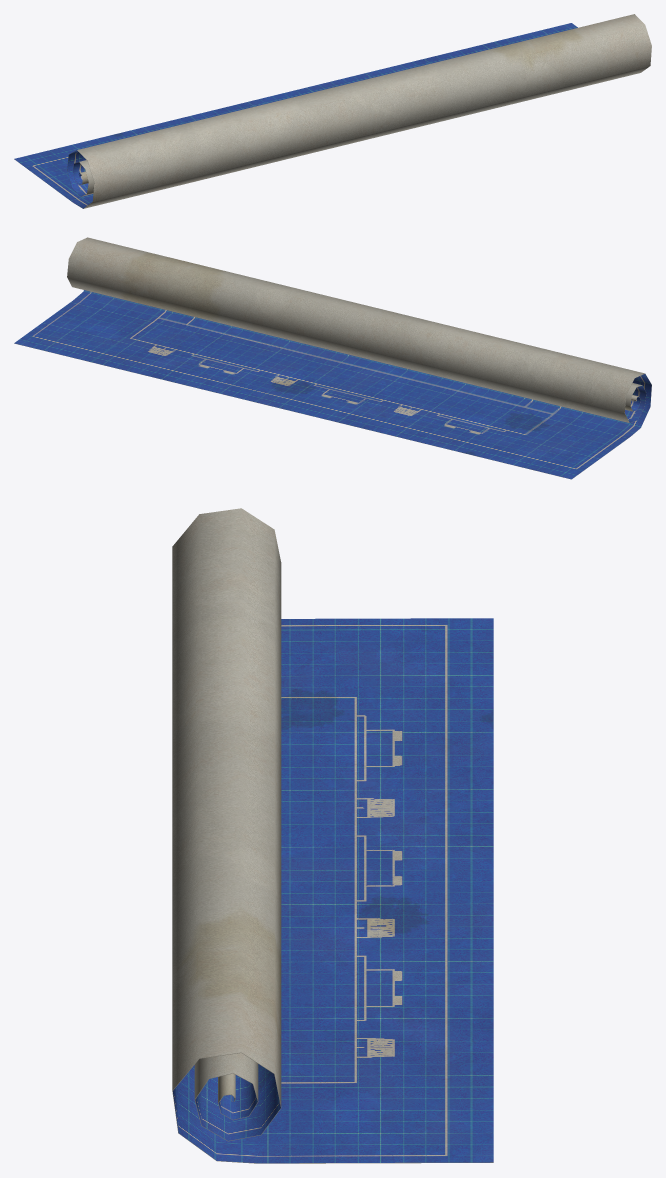
File: Blueprints03.FBX
The picture shows the model from 3 angles, top to bottom: view 1: azimuth 30°, elevation 25°; view 2: azimuth 150°, elevation 25°; view 3: azimuth 270°, elevation 25°; orthographic projection. The views are drawn at different scales.
Visible parts, largest first — view 1: Blueprint03; view 2: Blueprint03; view 3: Blueprint03.
Part boxes in pixels (x1=…): Blueprint03: x1=14, y1=14, x2=651, y2=208; Blueprint03: x1=14, y1=237, x2=651, y2=479; Blueprint03: x1=172, y1=508, x2=493, y2=1163.
Size of the model in its own units: 97.09 by 9.25 by 24.23.
